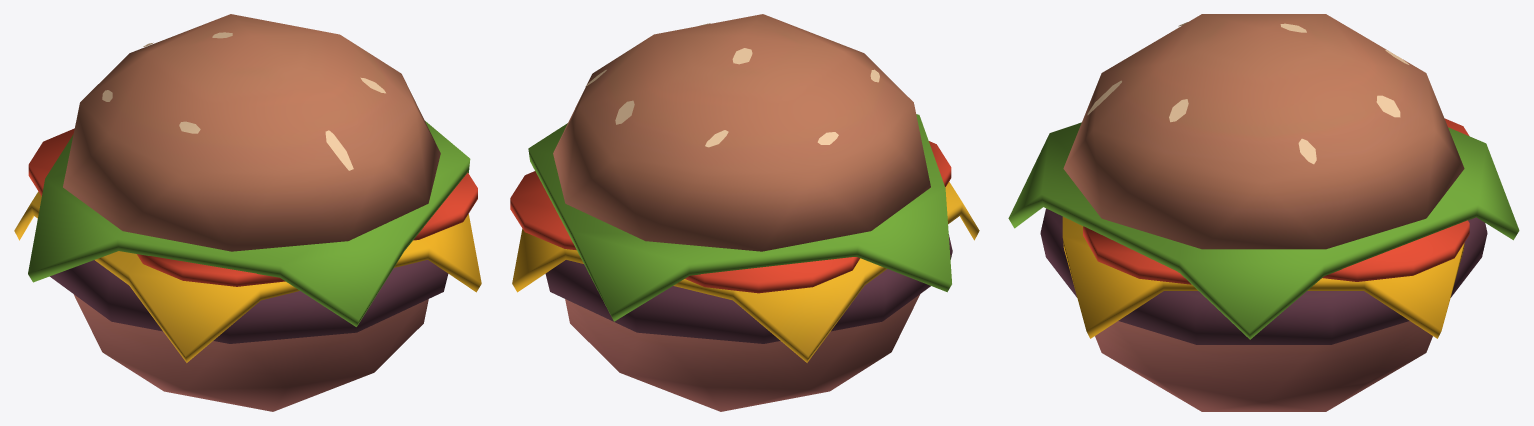
File: Burger.fbx
The picture shows the model from 3 angles, left to right: view 1: azimuth 30°, elevation 25°; view 2: azimuth 150°, elevation 25°; view 3: azimuth 270°, elevation 25°; orthographic projection. The views are drawn at different scales.
Visible parts, largest first — view 1: Burger; view 2: Burger; view 3: Burger.
Boxes of the visible parts, x1,y1,x2,y2 form: Burger: [14, 14, 481, 411]; Burger: [510, 14, 979, 411]; Burger: [1008, 14, 1519, 411].
Size of the model in its own units: 30.93 by 23.16 by 30.93.
